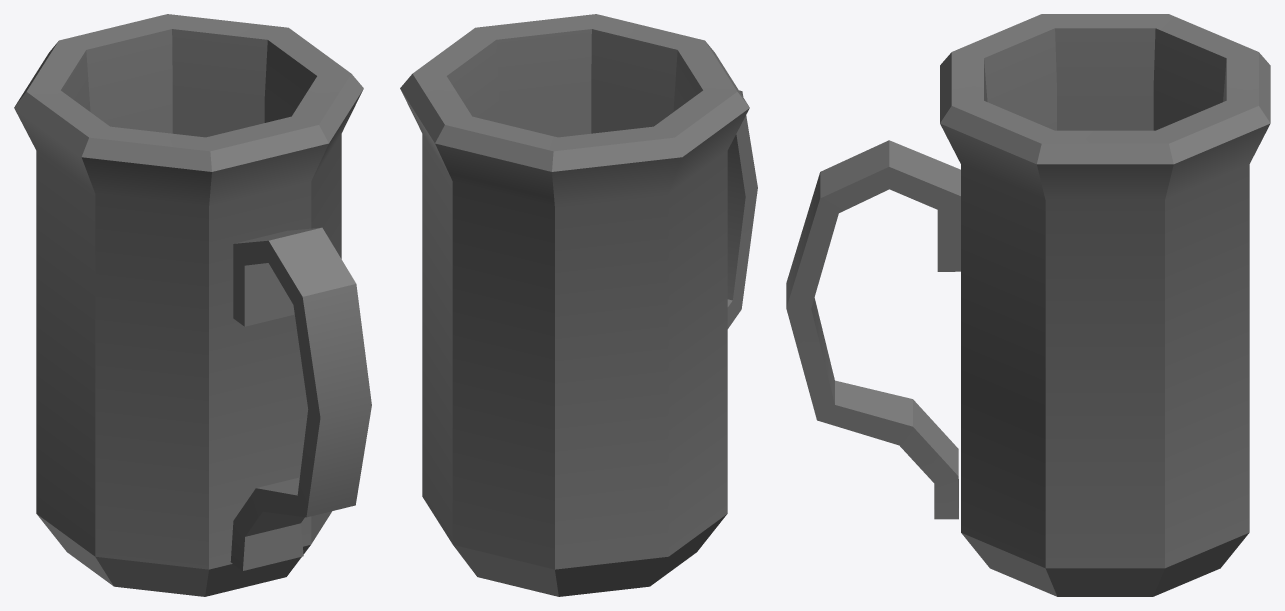
File: EA_Items_House_mug_01a.glb
3 views of the same model, side by side, from view 1: azimuth 30°, elevation 25°; view 2: azimuth 150°, elevation 25°; view 3: azimuth 270°, elevation 25° (orthographic).
Parts seen in each view (by area): view 1: EA_Items_House_mug_01a; view 2: EA_Items_House_mug_01a; view 3: EA_Items_House_mug_01a.
Boxes of the visible parts, <box> form: EA_Items_House_mug_01a: <box>14,14,371,596</box>; EA_Items_House_mug_01a: <box>400,14,757,596</box>; EA_Items_House_mug_01a: <box>786,14,1270,596</box>.
Size of the model in its own units: 0.1391 by 0.2178 by 0.2037.
1 material, 1 textured.
